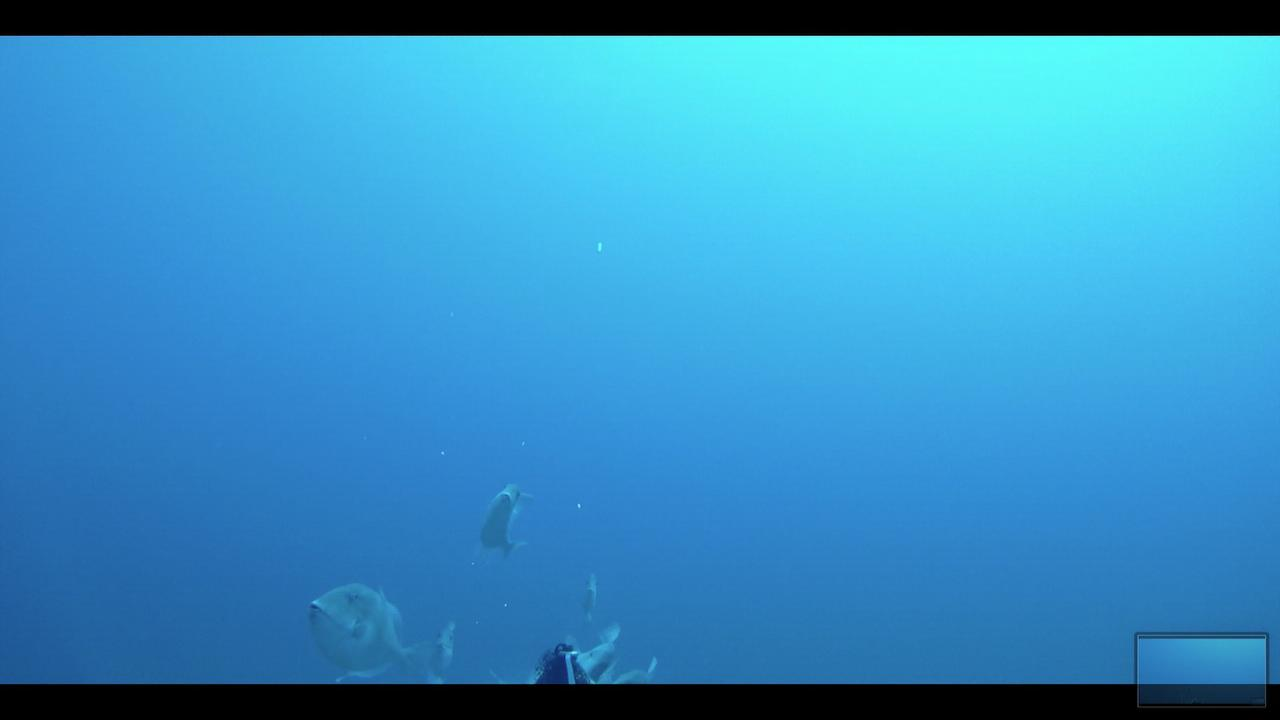balistes: (297, 576, 458, 681), (464, 477, 542, 563)
